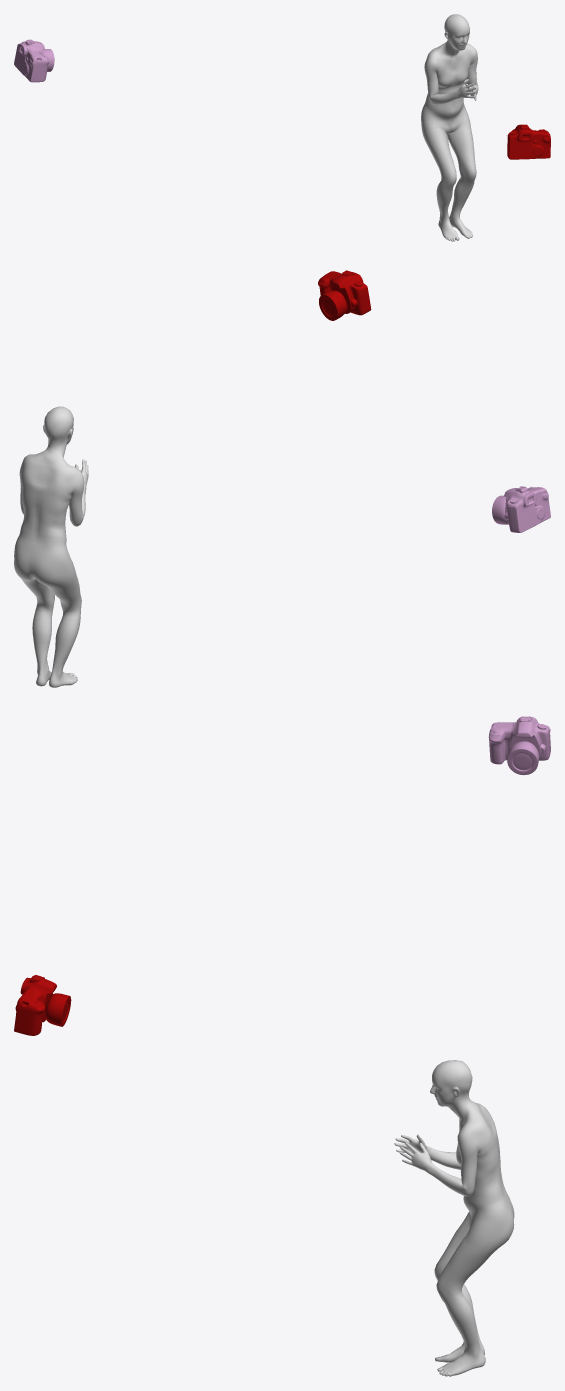
File: friends.glb
The picture shows the model from 3 angles, top to bottom: view 1: azimuth 30°, elevation 25°; view 2: azimuth 150°, elevation 25°; view 3: azimuth 270°, elevation 25°; orthographic projection. The views are drawn at different scales.
Visible parts, largest first — view 1: world, 10124_SLR_Camera_SG_V1_Iteration2.obj, 10124_SLR_Camera_SG_V1_Iteration2.obj:T6LWEKIK2DEP; view 2: world, 10124_SLR_Camera_SG_V1_Iteration2.obj:T6LWEKIK2DEP, 10124_SLR_Camera_SG_V1_Iteration2.obj; view 3: world, 10124_SLR_Camera_SG_V1_Iteration2.obj:T6LWEKIK2DEP, 10124_SLR_Camera_SG_V1_Iteration2.obj.
Part boxes in pixels (bbox=[...]): world: bbox=[421, 14, 478, 241]; 10124_SLR_Camera_SG_V1_Iteration2.obj: bbox=[507, 124, 550, 159]; 10124_SLR_Camera_SG_V1_Iteration2.obj:T6LWEKIK2DEP: bbox=[14, 39, 54, 82]; world: bbox=[14, 406, 88, 687]; 10124_SLR_Camera_SG_V1_Iteration2.obj:T6LWEKIK2DEP: bbox=[492, 486, 550, 532]; 10124_SLR_Camera_SG_V1_Iteration2.obj: bbox=[318, 270, 371, 320]; world: bbox=[394, 1060, 514, 1376]; 10124_SLR_Camera_SG_V1_Iteration2.obj:T6LWEKIK2DEP: bbox=[488, 716, 550, 775]; 10124_SLR_Camera_SG_V1_Iteration2.obj: bbox=[14, 975, 71, 1035].
Bounding box in the file's own units: 3.37 × 2.03 × 2.59.
